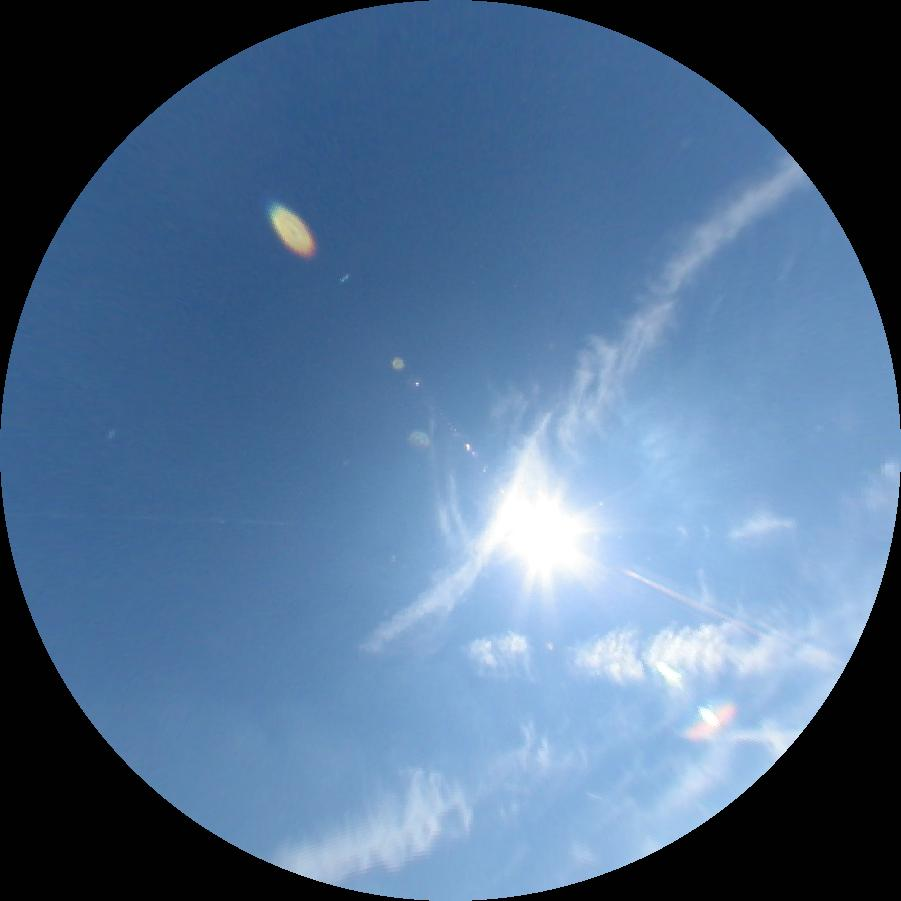contrail veryold: (357, 154, 815, 651), (270, 767, 471, 887), (468, 620, 782, 684)
parasite: (618, 566, 770, 638)
sun: (503, 500, 580, 568)
